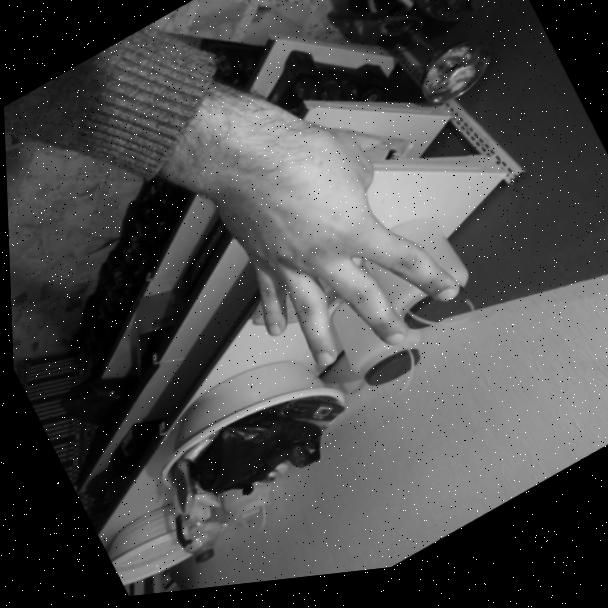four: (181, 82, 482, 417)
